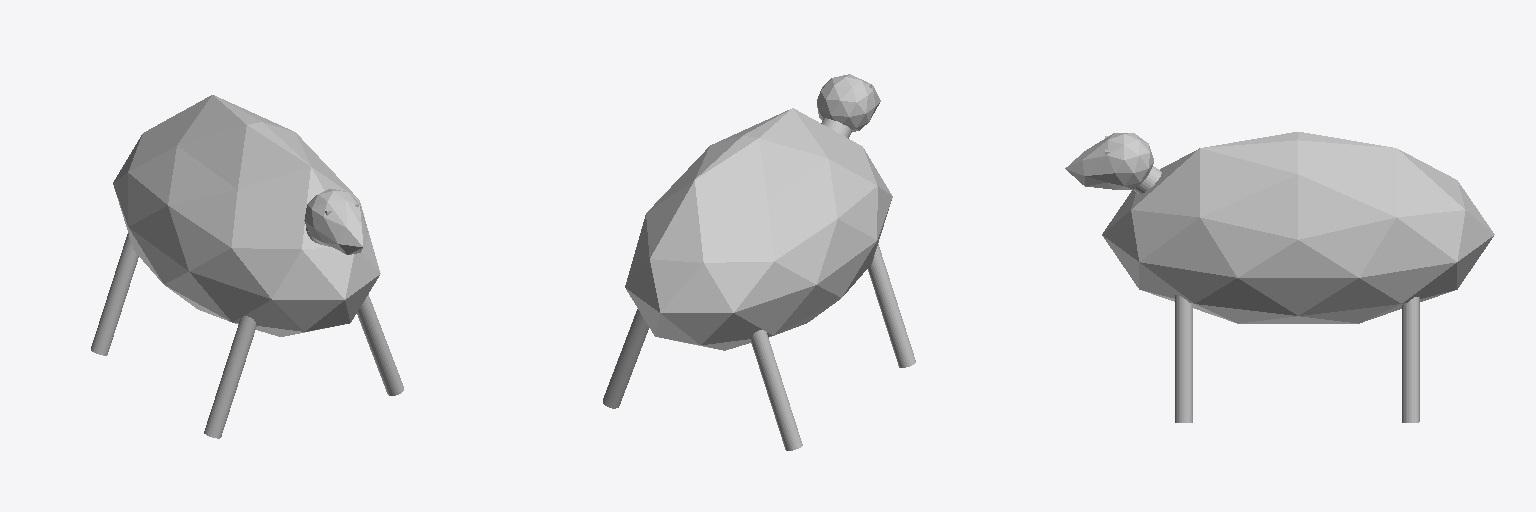
File: bettersheep.obj
3 renders of one model, left to right at view 1: azimuth 30°, elevation 25°; view 2: azimuth 150°, elevation 25°; view 3: azimuth 270°, elevation 25°, orthographic.
Parts seen in each view (by area): view 1: Cylinder_Cylinder.005; view 2: Cylinder_Cylinder.005; view 3: Cylinder_Cylinder.005.
Boxes of the visible parts, x1,y1,x2,y2 form: Cylinder_Cylinder.005: [91, 95, 403, 438]; Cylinder_Cylinder.005: [603, 74, 915, 450]; Cylinder_Cylinder.005: [1065, 132, 1494, 422].
Size of the model in its own units: 1.02 by 1.22 by 1.91.